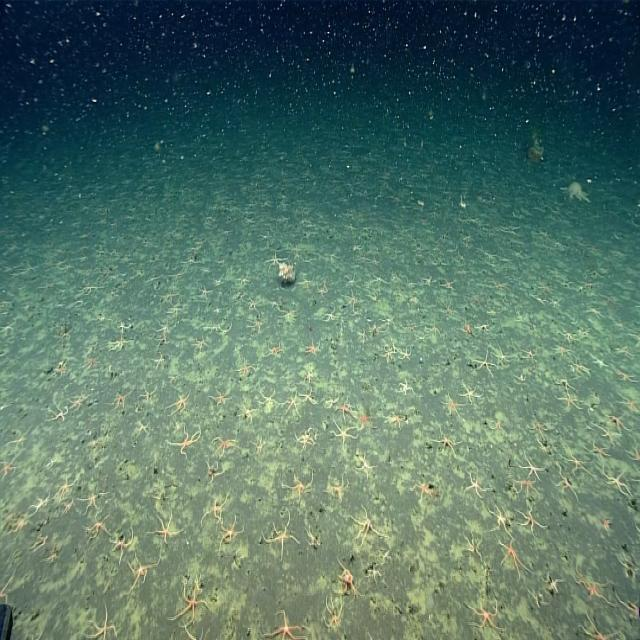brittle-stars: (460, 586, 512, 640), (167, 568, 209, 633), (346, 497, 395, 550), (142, 498, 192, 548), (260, 591, 311, 640), (258, 505, 300, 563), (125, 545, 166, 603), (68, 601, 125, 640), (570, 562, 614, 611), (279, 459, 319, 508), (495, 535, 534, 583), (573, 612, 629, 640), (167, 420, 207, 459), (514, 498, 554, 537), (458, 525, 490, 570), (198, 486, 230, 530), (326, 562, 366, 597), (76, 479, 110, 520), (458, 464, 491, 506), (431, 424, 464, 466), (317, 593, 348, 637), (599, 468, 640, 501), (216, 512, 250, 551), (163, 382, 196, 422), (84, 506, 115, 548), (109, 522, 138, 565), (486, 499, 516, 540), (550, 470, 584, 505), (289, 420, 321, 456), (328, 418, 359, 455), (322, 468, 352, 506), (556, 444, 595, 473), (559, 178, 591, 213), (6, 423, 33, 464), (3, 506, 33, 542), (101, 382, 134, 414), (210, 428, 243, 460), (408, 473, 441, 505), (196, 454, 227, 488), (232, 347, 262, 382), (256, 381, 284, 418), (271, 299, 303, 331), (524, 412, 556, 444), (352, 448, 378, 487), (614, 584, 640, 623), (518, 449, 550, 480), (206, 377, 233, 413), (613, 351, 639, 387), (302, 519, 327, 555), (456, 378, 486, 408), (53, 468, 79, 502), (0, 567, 22, 606), (438, 391, 467, 420), (29, 486, 53, 521), (470, 346, 496, 378), (612, 333, 640, 362), (43, 398, 70, 428), (104, 332, 134, 359), (27, 528, 56, 555), (281, 388, 303, 423), (138, 378, 160, 412), (555, 386, 586, 410), (335, 392, 358, 424), (235, 400, 261, 428), (382, 408, 408, 436), (0, 454, 25, 483), (198, 318, 236, 337), (406, 270, 436, 294), (180, 618, 212, 640), (512, 476, 544, 498), (603, 407, 630, 433), (76, 348, 102, 374), (147, 316, 172, 343), (68, 384, 89, 416), (544, 568, 568, 596), (249, 430, 271, 460), (339, 288, 363, 315), (133, 413, 156, 441), (321, 384, 342, 414), (363, 556, 382, 589), (264, 339, 289, 364), (38, 545, 62, 571), (566, 356, 594, 378), (548, 371, 577, 392), (240, 290, 265, 314), (190, 280, 213, 306), (519, 340, 540, 368), (489, 404, 507, 436), (264, 248, 287, 273), (523, 589, 548, 612), (492, 344, 515, 369), (298, 385, 320, 411), (590, 441, 612, 467), (357, 406, 376, 436), (59, 495, 79, 522), (51, 354, 70, 382), (395, 371, 414, 399), (616, 392, 640, 414), (300, 361, 320, 387), (303, 337, 325, 360), (156, 284, 180, 305), (579, 304, 606, 322), (380, 307, 400, 331), (375, 347, 397, 368), (623, 439, 640, 466), (592, 518, 616, 537), (366, 270, 390, 289), (94, 305, 112, 330), (548, 344, 574, 361), (189, 335, 209, 357), (596, 424, 618, 444), (437, 296, 457, 318), (354, 317, 368, 348), (176, 251, 200, 269), (246, 318, 267, 338), (312, 277, 331, 299), (511, 366, 530, 388), (150, 350, 168, 373), (322, 301, 340, 324), (592, 351, 610, 374), (77, 280, 101, 297), (467, 289, 484, 313), (460, 316, 476, 341), (491, 275, 511, 295), (341, 271, 362, 290), (234, 268, 252, 290), (41, 450, 58, 473), (165, 304, 187, 321), (426, 324, 445, 343), (433, 279, 457, 293), (368, 320, 380, 345), (530, 293, 548, 309), (400, 346, 414, 366), (478, 320, 493, 337), (116, 315, 130, 333), (167, 370, 180, 388), (560, 329, 576, 342)
